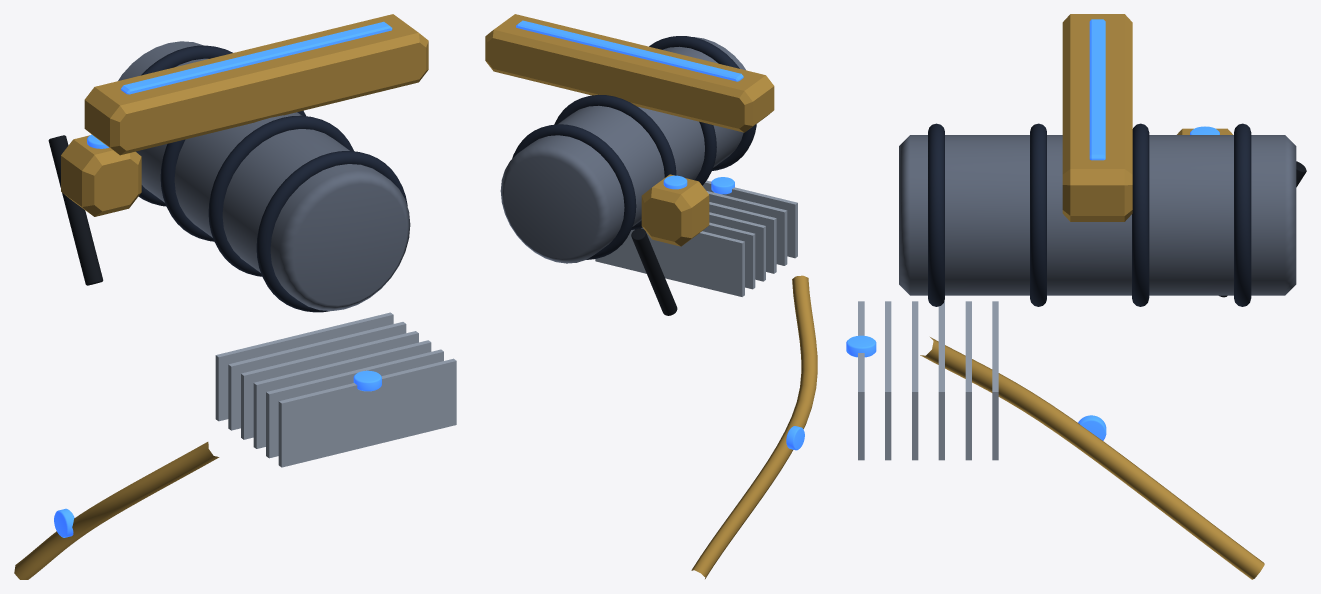
Rendered from tower_lance_rate_s5.glb.
3 views of the same model, side by side, from view 1: azimuth 30°, elevation 25°; view 2: azimuth 150°, elevation 25°; view 3: azimuth 270°, elevation 25° (orthographic). The views are drawn at different scales.
Parts seen in each view (by area): view 1: lance_capacitor_c, lance_breech_sink, lance_bus_bar_heavy, lance_bus_tap, lance_coolant_line, lance_cap_rib_c0, lance_cap_rib_c1, lance_bus_bar_glow, lance_bus_tap_line, lance_cap_rib_c2, lance_cap_rib_c3; view 2: lance_capacitor_c, lance_bus_bar_heavy, lance_breech_sink, lance_coolant_line, lance_bus_tap, lance_cap_rib_c3, lance_bus_bar_glow, lance_cap_rib_c2, lance_cap_rib_c0, lance_bus_tap_line, lance_cap_rib_c1; view 3: lance_capacitor_c, lance_bus_bar_heavy, lance_coolant_line, lance_breech_sink, lance_cap_rib_c3, lance_cap_rib_c2, lance_cap_rib_c1, lance_cap_rib_c0, lance_bus_bar_glow.
Part boxes in pixels (x1=…): lance_capacitor_c: x1=118, y1=41, x2=410, y2=310; lance_breech_sink: x1=215, y1=312, x2=456, y2=467; lance_bus_bar_heavy: x1=84, y1=14, x2=428, y2=155; lance_bus_tap: x1=61, y1=135, x2=141, y2=216; lance_coolant_line: x1=14, y1=442, x2=219, y2=579; lance_cap_rib_c0: x1=256, y1=151, x2=407, y2=312; lance_cap_rib_c1: x1=208, y1=115, x2=353, y2=276; lance_bus_bar_glow: x1=121, y1=21, x2=392, y2=94; lance_bus_tap_line: x1=48, y1=135, x2=103, y2=285; lance_cap_rib_c2: x1=160, y1=110, x2=305, y2=241; lance_cap_rib_c3: x1=138, y1=45, x2=232, y2=206; lance_capacitor_c: x1=500, y1=37, x2=745, y2=263; lance_bus_bar_heavy: x1=485, y1=14, x2=774, y2=132; lance_breech_sink: x1=595, y1=180, x2=797, y2=296; lance_coolant_line: x1=691, y1=275, x2=817, y2=578; lance_bus_tap: x1=641, y1=174, x2=709, y2=246; lance_cap_rib_c3: x1=512, y1=124, x2=636, y2=259; lance_bus_bar_glow: x1=516, y1=20, x2=743, y2=81; lance_cap_rib_c2: x1=554, y1=94, x2=676, y2=229; lance_cap_rib_c0: x1=649, y1=36, x2=756, y2=170; lance_bus_tap_line: x1=631, y1=228, x2=677, y2=315; lance_cap_rib_c1: x1=694, y1=121, x2=716, y2=185; lance_capacitor_c: x1=899, y1=135, x2=1296, y2=295; lance_bus_bar_heavy: x1=1062, y1=14, x2=1132, y2=221; lance_coolant_line: x1=920, y1=337, x2=1264, y2=579; lance_breech_sink: x1=858, y1=301, x2=998, y2=460; lance_cap_rib_c3: x1=1234, y1=123, x2=1251, y2=306; lance_cap_rib_c2: x1=1132, y1=123, x2=1149, y2=306; lance_cap_rib_c1: x1=1030, y1=123, x2=1046, y2=306; lance_cap_rib_c0: x1=928, y1=123, x2=944, y2=306; lance_bus_bar_glow: x1=1089, y1=19, x2=1105, y2=160.
Size of the model in its own units: 0.82 by 1.18 by 0.8573.
